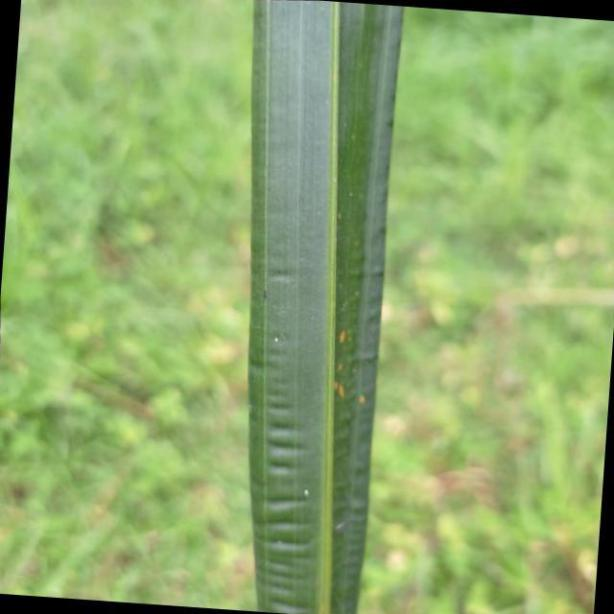Boron: (245, 0, 406, 614)
